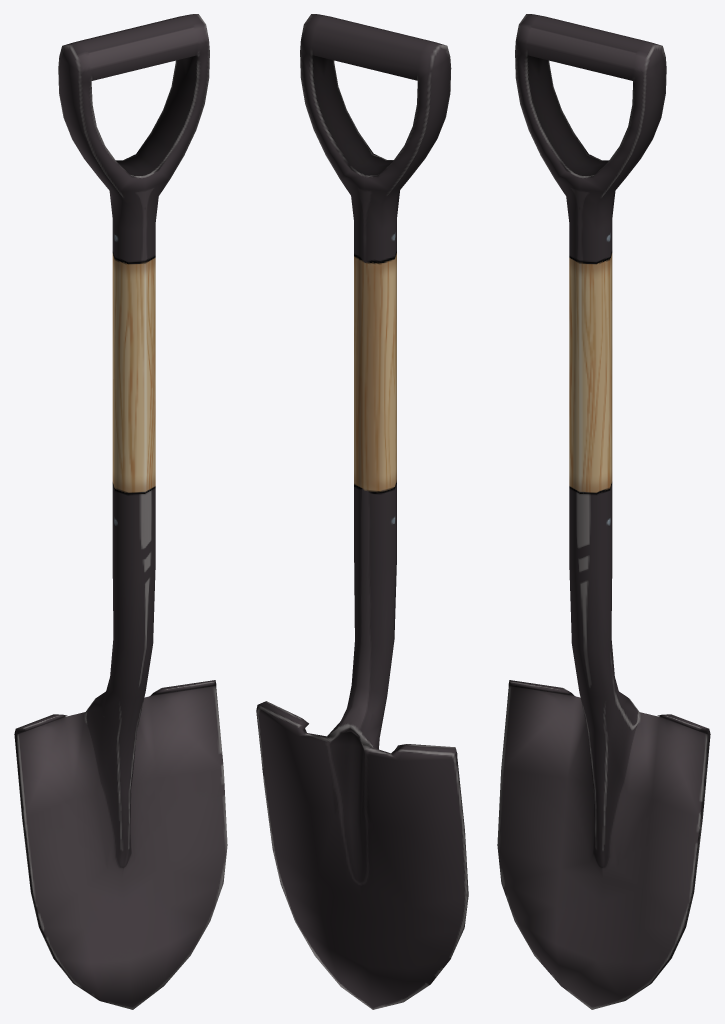
The model's file is Shovel.fbx.
3 views of the same model, side by side, from view 1: azimuth 30°, elevation 25°; view 2: azimuth 150°, elevation 25°; view 3: azimuth 330°, elevation 25° (orthographic).
Parts seen in each view (by area): view 1: Shovel; view 2: Shovel; view 3: Shovel.
Part boxes in pixels (left/top/right/bottom): Shovel: left=14, top=14, right=227, bottom=1009; Shovel: left=256, top=14, right=468, bottom=1009; Shovel: left=497, top=14, right=710, bottom=1009.
Size of the model in its own units: 0.2287 by 1.07 by 0.0788.
